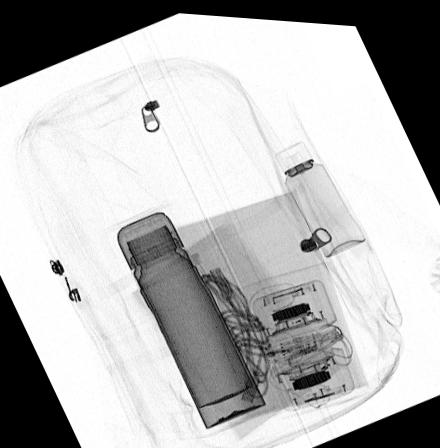Sprayer: (272, 134, 366, 254)
